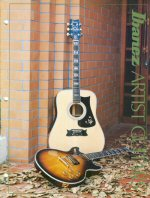guitar: (45, 18, 106, 155), (34, 146, 134, 189)
